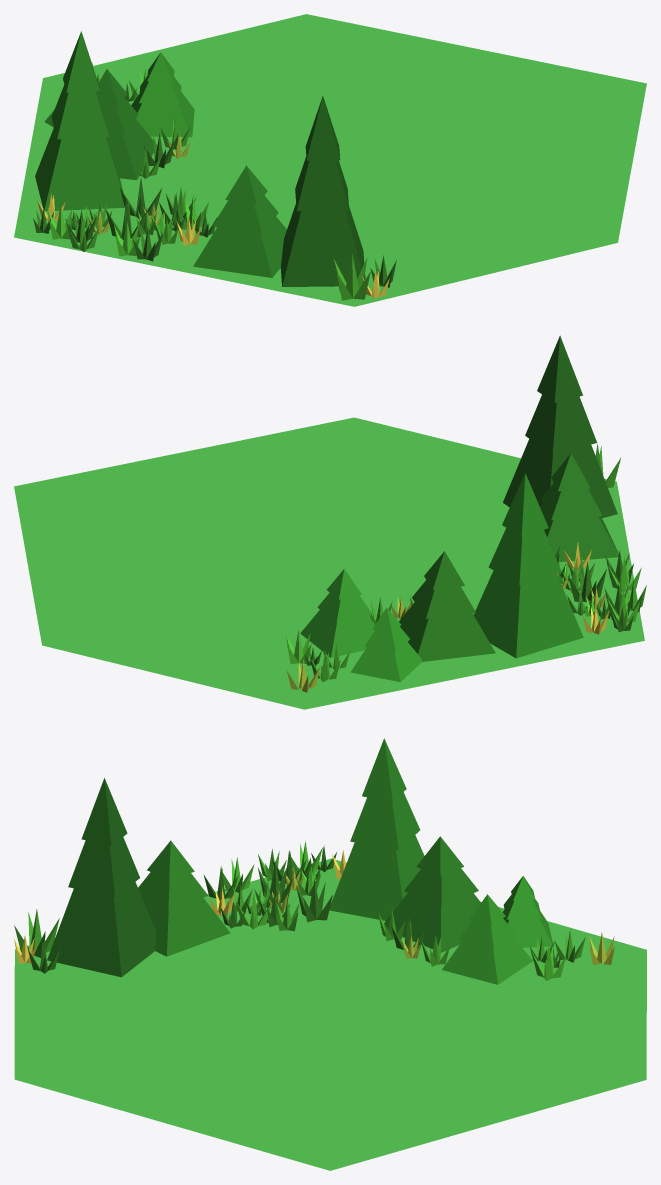
File: Forest.glb
3 renders of one model, top to bottom at view 1: azimuth 30°, elevation 25°; view 2: azimuth 150°, elevation 25°; view 3: azimuth 270°, elevation 25°, orthographic.
Visible parts, largest first — view 1: Pyramid.039; view 2: Pyramid.039; view 3: Pyramid.039.
Boxes of the visible parts, x1,y1,x2,y2 form: Pyramid.039: (14, 14, 646, 306); Pyramid.039: (14, 335, 646, 709); Pyramid.039: (14, 738, 646, 1170).
Size of the model in its own units: 69.5 by 18.78 by 59.51.
